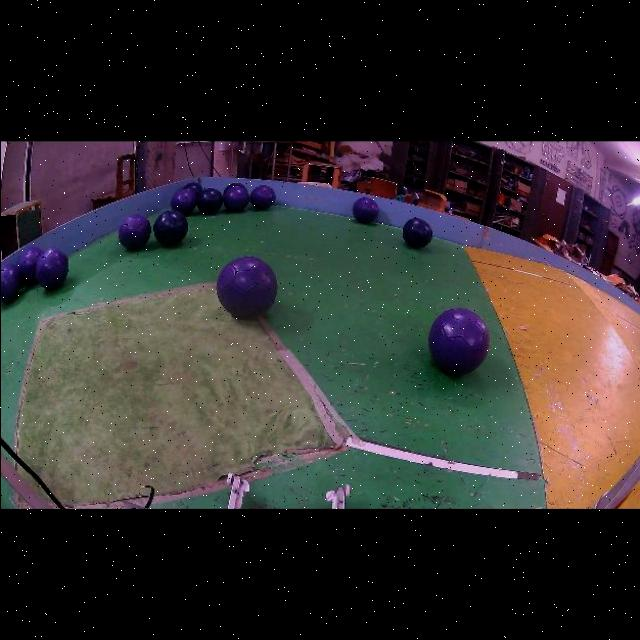B: (152, 211, 187, 246), (401, 218, 431, 248), (196, 188, 222, 214)
P: (427, 308, 488, 374), (215, 257, 276, 318), (35, 248, 68, 290), (116, 214, 150, 250), (18, 246, 42, 285), (0, 263, 20, 303), (170, 189, 196, 216), (222, 186, 248, 212), (351, 198, 378, 223), (249, 185, 275, 209)
